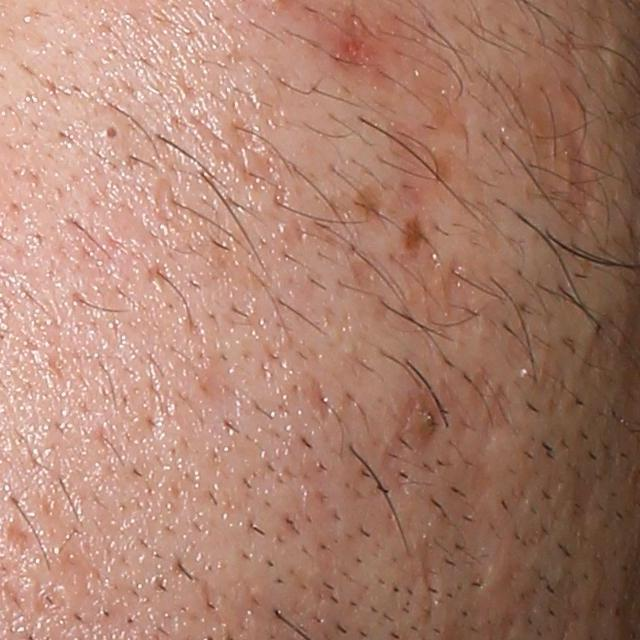atrophic_scar: (414, 75, 473, 143), (561, 126, 598, 231), (430, 260, 475, 328), (455, 519, 497, 590), (378, 435, 416, 495), (485, 385, 514, 443), (311, 370, 337, 427), (418, 544, 440, 607), (6, 519, 43, 553)
comedo: (95, 117, 131, 148)
